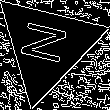N_E: (18, 20, 76, 71)
